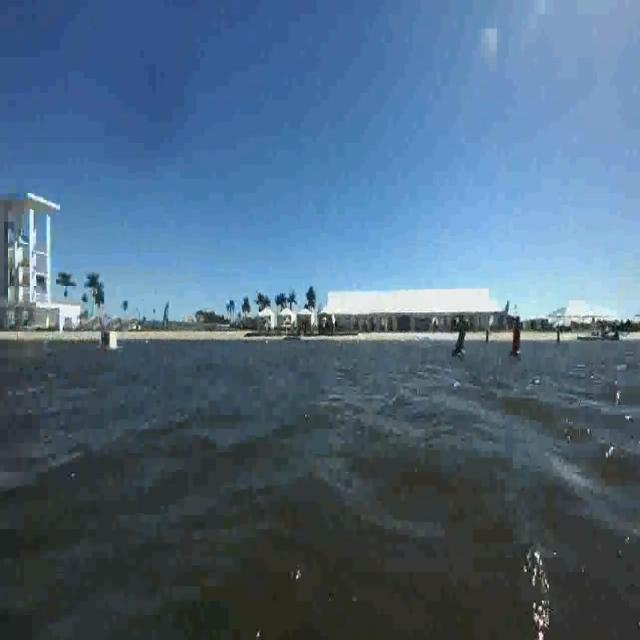green-column-buoy: (454, 321, 468, 356)
red-column-buoy: (508, 323, 522, 359)
